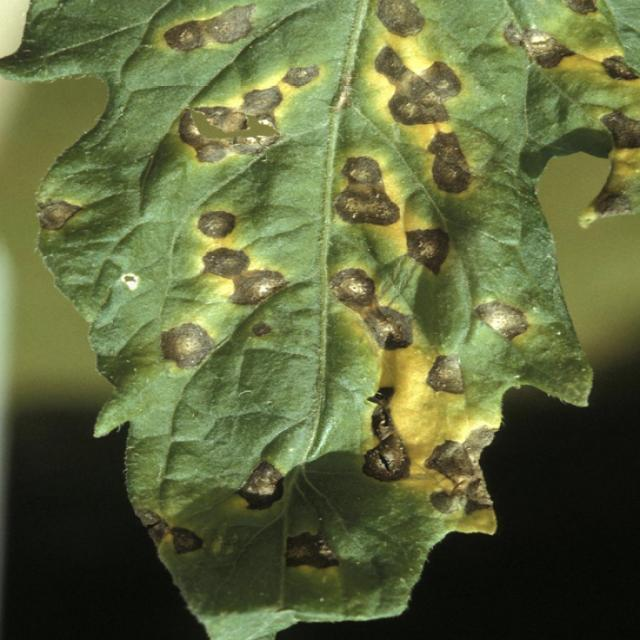Septoria: (130, 199, 542, 528), (143, 3, 640, 192)
